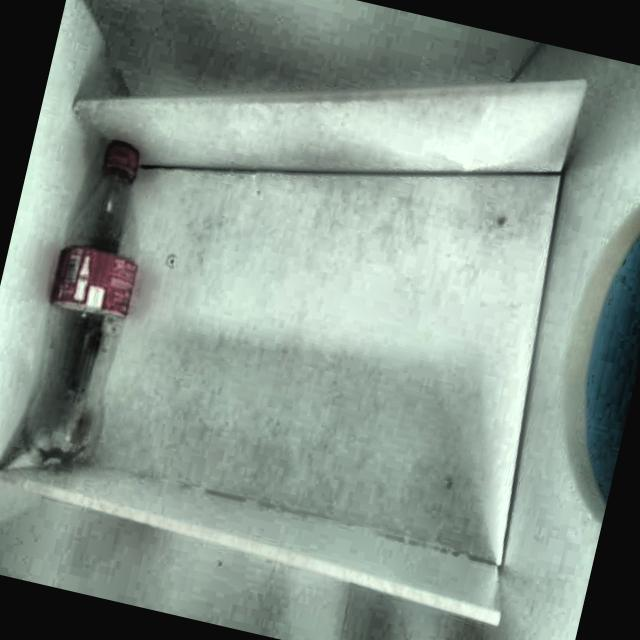plastic bottle: (13, 141, 139, 482)
